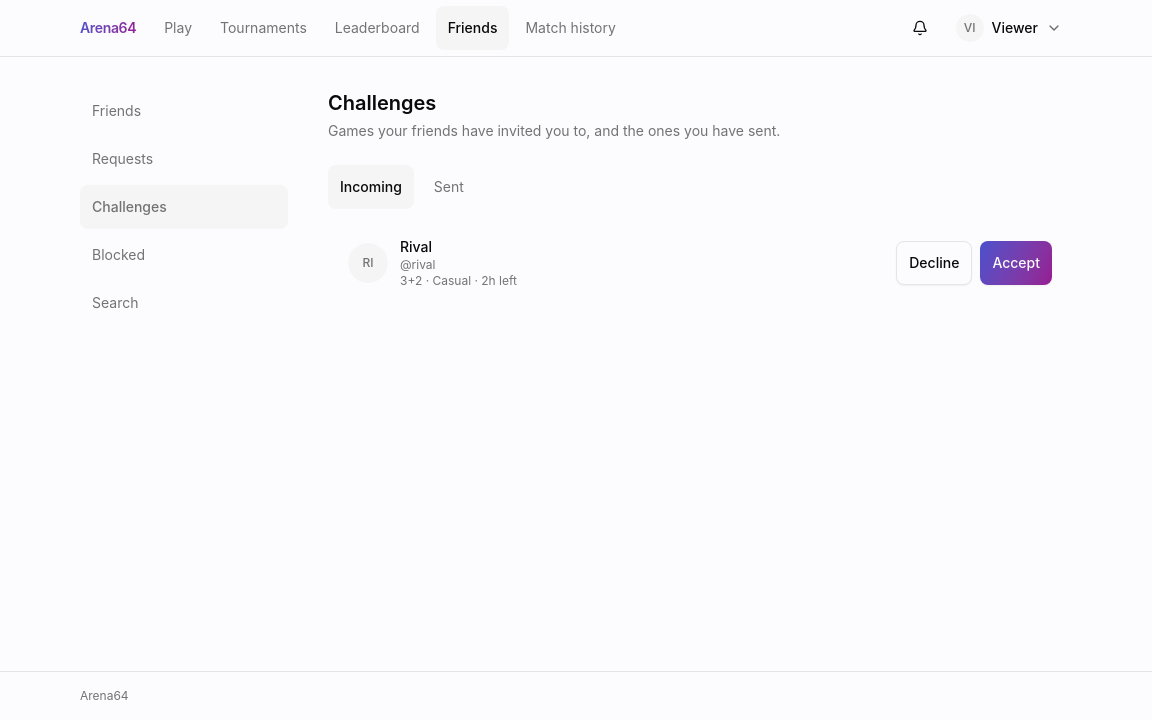
Test: explains a retired time control instead of saying to try again
The width and height of the screenshot is (1152, 720).
What coordinates should you click on to do the following:
click the button with aria-label "accept the challenge from rival"
I would click on:
 (1016, 263)
Its box is [980,241,1052,285].
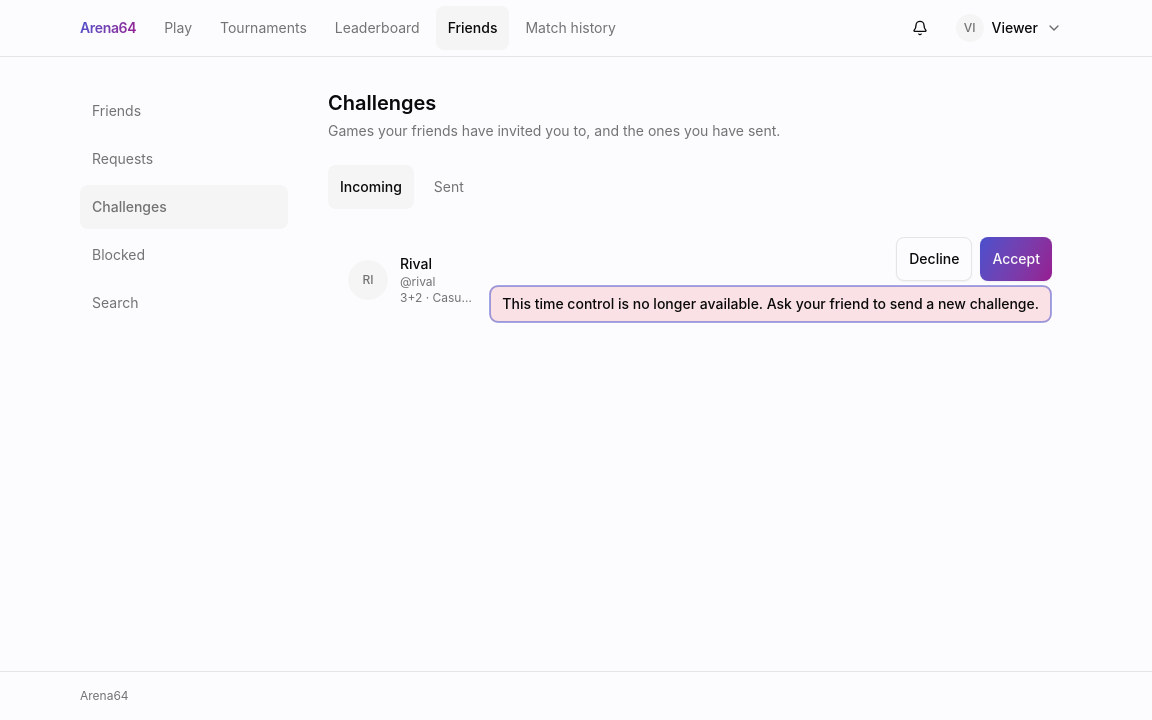
expect the text "no longer available" is shown: met, box [502,295,1039,312]
